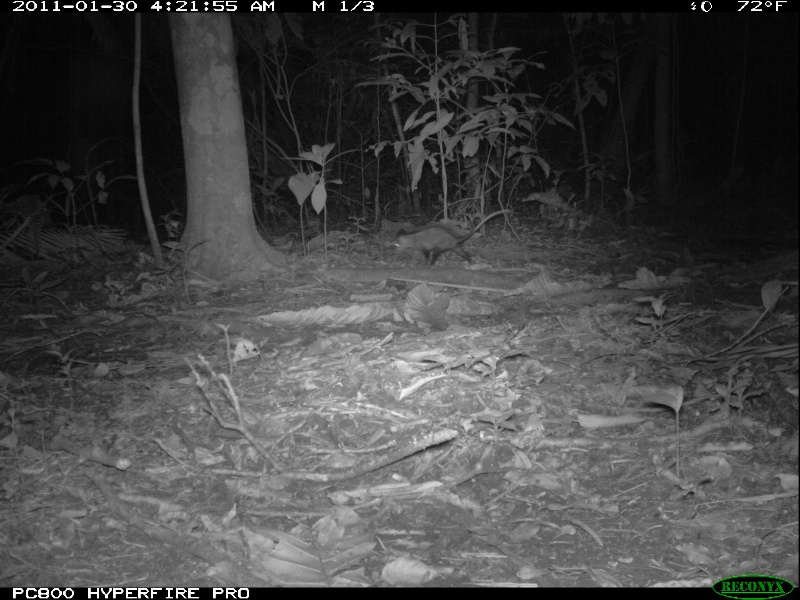opossum: (390, 209, 513, 268)
